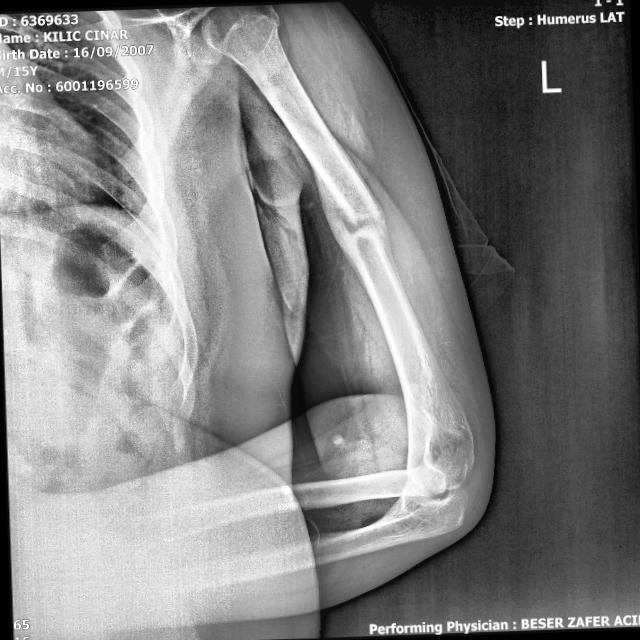Fracture: (312, 172, 407, 264)
